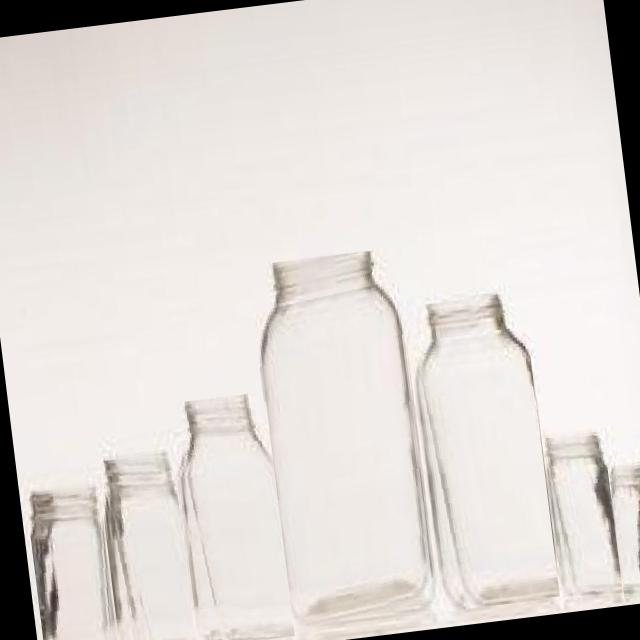Glass: (247, 247, 441, 633), (407, 289, 560, 612), (171, 393, 294, 640), (98, 448, 196, 640), (24, 477, 123, 640), (540, 427, 622, 600), (607, 458, 640, 598)
